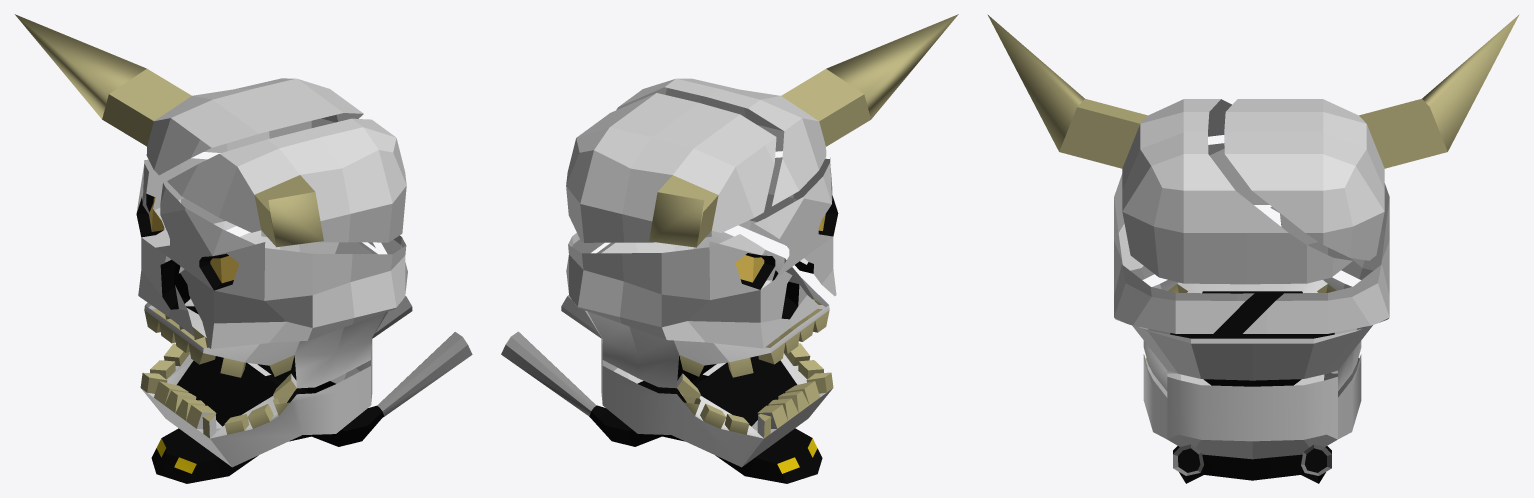
The model's file is Skull Destruct.fbx.
The picture shows the model from 3 angles, left to right: view 1: azimuth 30°, elevation 25°; view 2: azimuth 150°, elevation 25°; view 3: azimuth 270°, elevation 25°; orthographic projection. The views are drawn at different scales.
Parts seen in each view (by area): view 1: polySurface5, polySurface8, polySurface9, polySurface7, polySurface6, polySurface10; view 2: polySurface7, polySurface5, polySurface10, polySurface8, polySurface6, polySurface9; view 3: polySurface8, polySurface7, polySurface5, polySurface6, polySurface9, polySurface10.
Boxes of the visible parts, bbox=[...] form: polySurface5: bbox=[140, 296, 472, 483]; polySurface8: bbox=[167, 118, 406, 247]; polySurface9: bbox=[156, 183, 407, 348]; polySurface7: bbox=[15, 14, 363, 175]; polySurface6: bbox=[144, 230, 387, 398]; polySurface10: bbox=[136, 158, 375, 336]; polySurface7: bbox=[566, 93, 776, 247]; polySurface5: bbox=[501, 295, 833, 483]; polySurface10: bbox=[566, 233, 820, 348]; polySurface8: bbox=[616, 14, 958, 206]; polySurface6: bbox=[585, 230, 829, 398]; polySurface9: bbox=[738, 157, 838, 296]; polySurface8: bbox=[987, 14, 1352, 284]; polySurface7: bbox=[1224, 14, 1519, 260]; polySurface5: bbox=[1143, 354, 1361, 483]; polySurface6: bbox=[1132, 277, 1372, 391]; polySurface9: bbox=[1114, 143, 1269, 333]; polySurface10: bbox=[1243, 183, 1389, 333].
Bounding box in the file's own units: 20.33 × 24.2 × 30.11.
